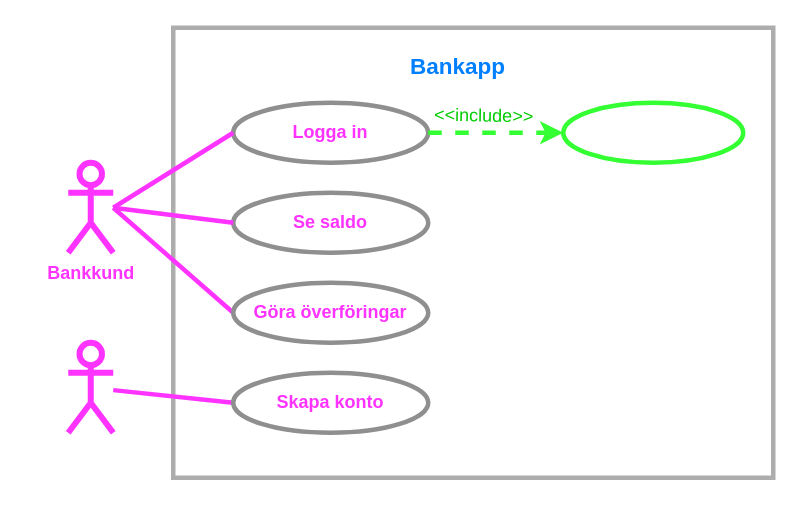
Some shapes in this 801 by 506 pixel diagram are drawn without their labels. Here are the shapes that lost their labels. From the top down, the centre of each, then its label:
point (652, 132): Verifiera identitet
point (90, 387): Banktjänteman
